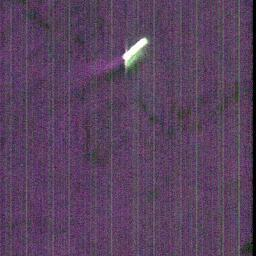Ship: (122, 37, 149, 62)
